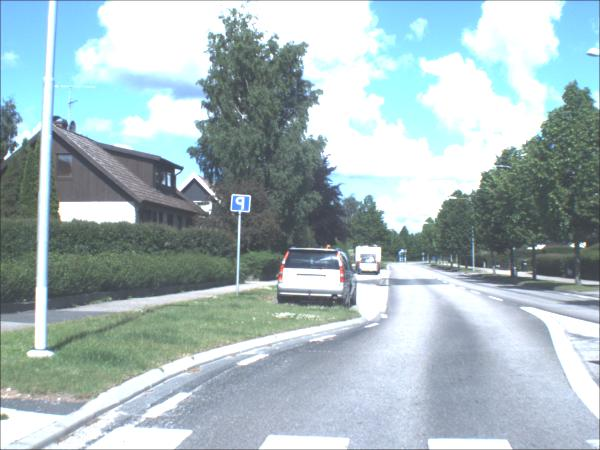PASS_RIGHT_SIDE: (399, 253, 403, 257)
PEDESTRIAN_CROSSING: (401, 250, 404, 254)
